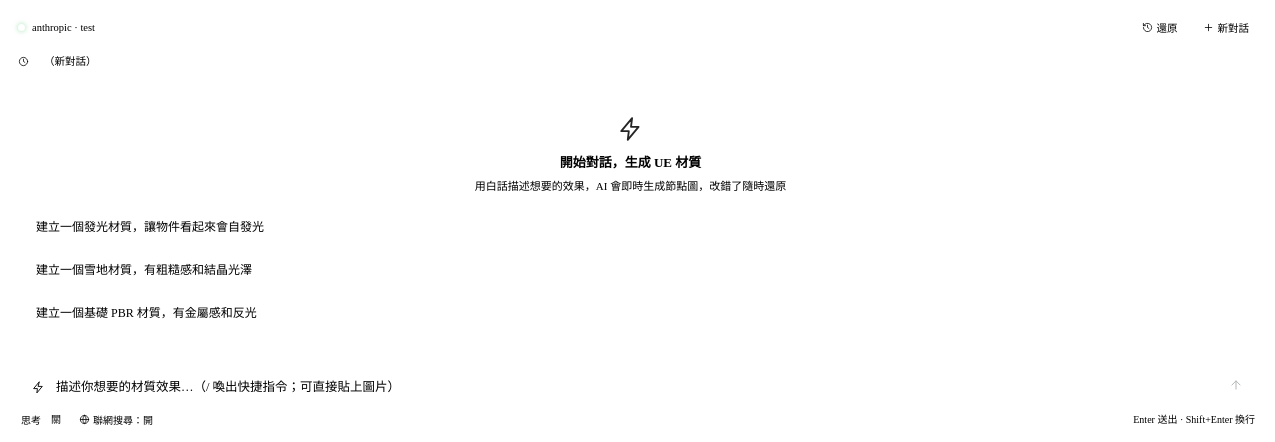
Test: AgentChat M4 › reset button click clears the conversation
// Send a message first so there are items in the conversation.
Step 1. Type "建立材質" into the text box with placeholder "描述你想要的材質效果…（/ 喚出快捷指令；可直接貼上圖片）" → (635, 388), box x1=56 y1=378 x2=1214 y2=397
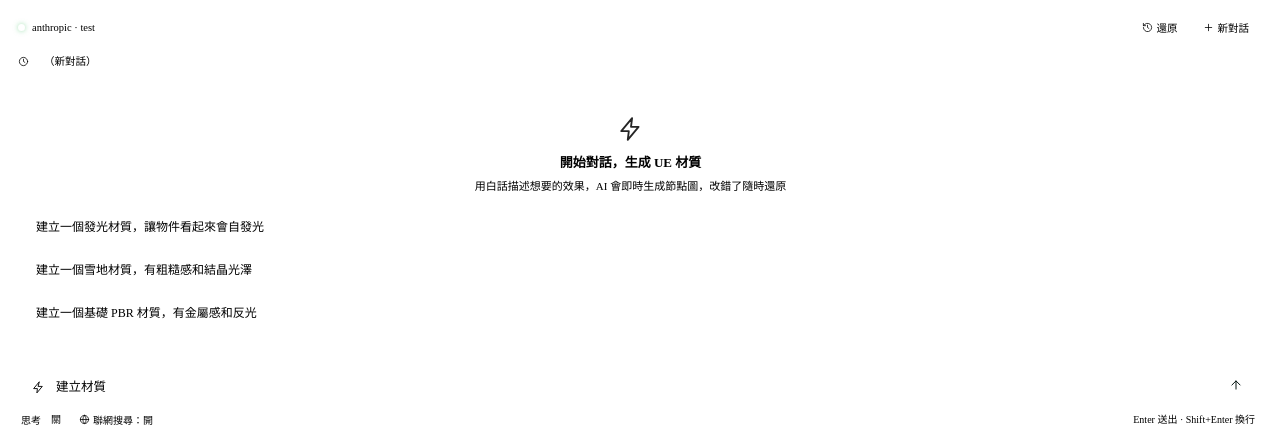
Step 2. Press Enter in the text box, box x1=56 y1=378 x2=1214 y2=397
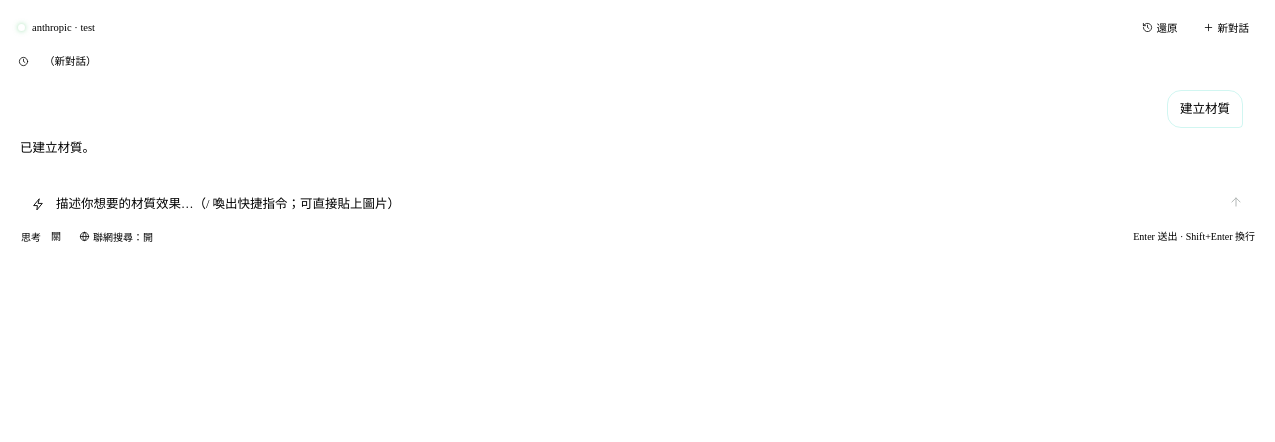
Expected: the text "已建立材質" is shown, x1=20 y1=141 x2=95 y2=155
Step 3. Click the button "新對話" → (1226, 28), box x1=1194 y1=16 x2=1258 y2=39
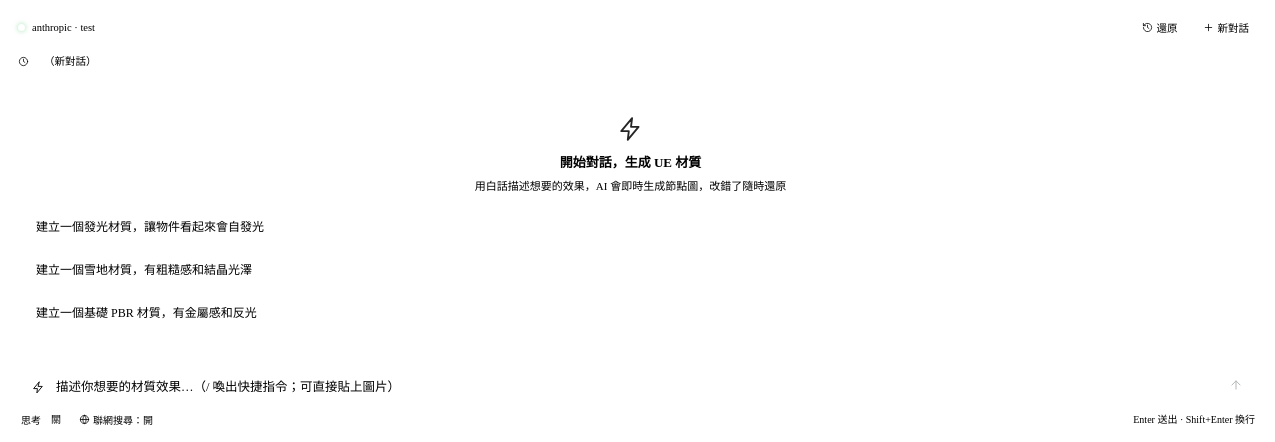
Expected: the text "開始對話，生成 UE 材質" is shown, x1=560 y1=155 x2=701 y2=170
